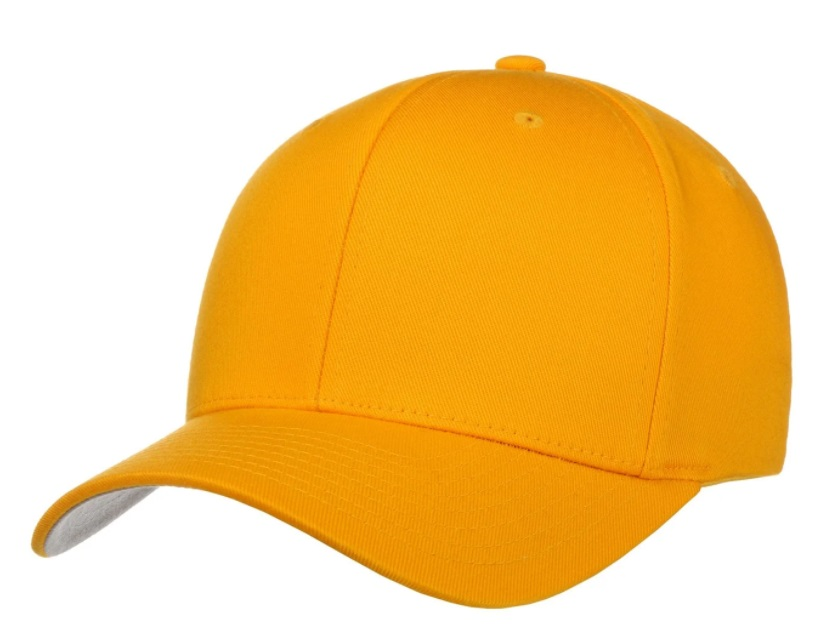Yellow: (31, 54, 796, 612)
